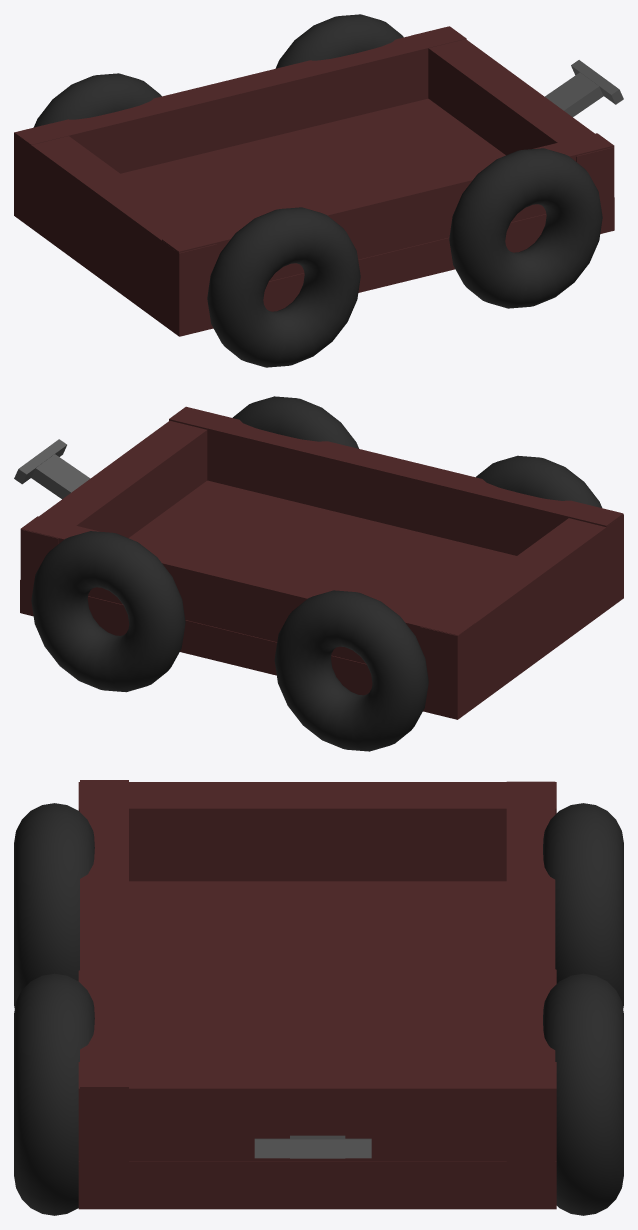
The model's file is wagon.fbx.
The picture shows the model from 3 angles, top to bottom: view 1: azimuth 30°, elevation 25°; view 2: azimuth 150°, elevation 25°; view 3: azimuth 270°, elevation 25°; orthographic projection. The views are drawn at different scales.
Visible parts, largest first — view 1: pCube51, pCube54, pCube57, pTorus4, pTorus3, pCube55, pCube56, pTorus1, pTorus2, pCube58, pCube59; view 2: pCube51, pCube55, pCube57, pTorus1, pTorus2, pCube56, pCube54, pTorus4, pTorus3, pCube58, pCube59; view 3: pCube51, pCube57, pCube56, pCube54, pCube55, pTorus1, pTorus4, pTorus2, pTorus3, pCube59.
Boxes of the visible parts, left/top/right/bottom form: pCube51: left=120, top=98, right=614, bottom=336; pCube54: left=14, top=26, right=466, bottom=173; pCube57: left=14, top=123, right=216, bottom=336; pTorus4: left=449, top=148, right=602, bottom=308; pTorus3: left=207, top=207, right=360, bottom=367; pCube55: left=162, top=133, right=614, bottom=281; pCube56: left=411, top=27, right=613, bottom=233; pTorus1: left=275, top=14, right=403, bottom=68; pTorus2: left=33, top=73, right=161, bottom=127; pCube58: left=545, top=72, right=603, bottom=116; pCube59: left=571, top=60, right=623, bottom=104; pCube51: left=20, top=480, right=516, bottom=719; pCube55: left=169, top=406, right=623, bottom=555; pCube57: left=420, top=514, right=623, bottom=719; pTorus1: left=31, top=531, right=185, bottom=692; pTorus2: left=274, top=590, right=428, bottom=751; pCube56: left=21, top=420, right=207, bottom=616; pCube54: left=20, top=516, right=474, bottom=663; pTorus4: left=232, top=396, right=358, bottom=448; pTorus3: left=476, top=455, right=602, bottom=507; pCube58: left=31, top=454, right=90, bottom=498; pCube59: left=14, top=439, right=66, bottom=484; pCube51: left=78, top=881, right=556, bottom=1209; pCube57: left=78, top=782, right=556, bottom=881; pCube56: left=78, top=1062, right=556, bottom=1161; pCube54: left=506, top=781, right=555, bottom=1193; pCube55: left=80, top=780, right=128, bottom=1205; pTorus1: left=543, top=973, right=623, bottom=1215; pTorus4: left=14, top=973, right=94, bottom=1215; pTorus2: left=543, top=803, right=623, bottom=1008; pTorus3: left=14, top=803, right=94, bottom=1008; pCube59: left=254, top=1138, right=371, bottom=1158.
Bounding box in the file's own units: 1.22 × 0.3538 × 0.8846.
